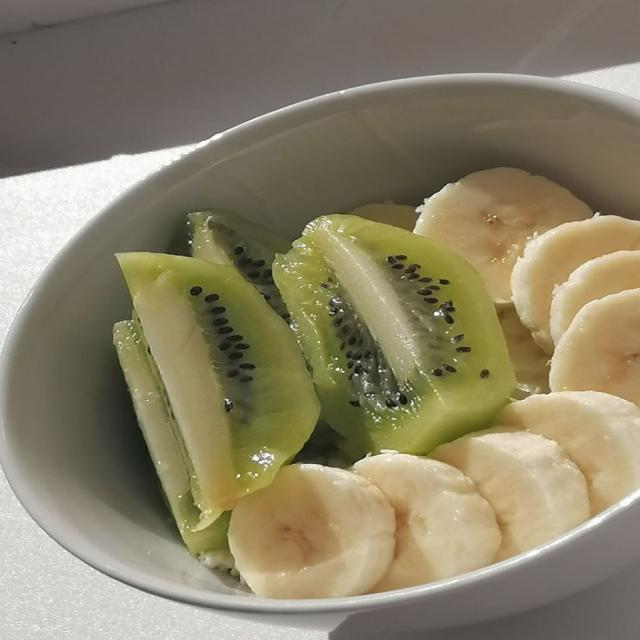banana slice: (414, 168, 592, 302), (229, 464, 395, 598), (432, 428, 590, 559), (354, 454, 500, 591), (512, 216, 639, 353), (498, 391, 639, 514), (550, 289, 639, 405), (550, 251, 639, 343), (496, 305, 549, 397), (350, 203, 417, 230)
kiwi: (113, 252, 319, 549), (275, 214, 516, 453), (188, 209, 289, 323)
